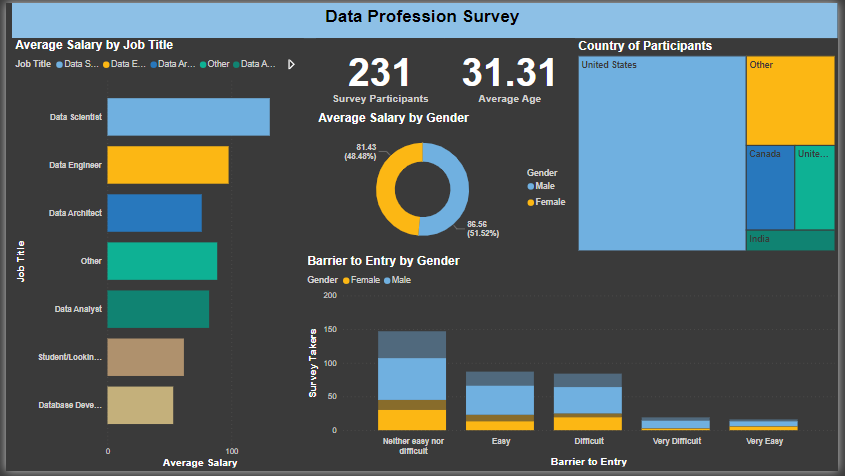

The page's visual inventory and layout, read from the dashboard file:
{"tool":"powerbi","page":{"name":"Page 1","canvas":[1280,720],"ordinal":0},"visuals":[{"type":"textbox","box":[9.7,0,1270.3,54.5],"z":0},{"type":"card","fields":{"Values":["CountNonNull(Data Professional Survey.Unique ID)"]},"box":[476.9,53.8,198.5,112.3],"z":1000},{"type":"card","fields":{"Values":["Avg(Data Professional Survey.Q10 - Current Age)"]},"box":[675.4,53.8,200,112.3],"z":2000},{"type":"barChart","title":"Average Salary by Job Title ","fields":{"Category":["Data Professional Survey.Q1 - Which Title Best Fits your Current Role?.1"],"Y":["Avg(Data Professional Survey.Average Salary)"],"Series":["Data Professional Survey.Q1 - Which Title Best Fits your Current Role?.1"]},"box":[9.2,53.8,449.2,666.2],"z":3000},{"type":"treemap","title":"Country of Participants","fields":{"Values":["CountNonNull(Data Professional Survey.Q11 - Which Country do you live in?.1)"],"Group":["Data Professional Survey.Q11 - Which Country do you live in?.1"]},"box":[875.4,55.4,404.6,330.8],"z":4000},{"type":"donutChart","title":"Average Salary by Gender","fields":{"Category":["Data Professional Survey.Q9 - Male/Female?"],"Y":["Avg(Data Professional Survey.Average Salary)"]},"box":[475.4,166.2,400,220],"z":5000},{"type":"columnChart","title":"Barrier to Entry by Gender","fields":{"Category":["Data Professional Survey.Q7 - How difficult was it for you to break into Data?"],"Y":["CountNonNull(Data Professional Survey.Unique ID)"],"Series":["Data Professional Survey.Q9 - Male/Female?"]},"box":[458.5,386.2,821.5,332.3],"z":5001}]}

Visuals, with their boxes in screenshot pixels (x1, y1, x2, y2), scaled from the page's 1280x720 canvas onto the 845x476 screenshot:
textbox: 6 0 844 36
card - CountNonNull(Data Professional Survey.Unique ID): 315 36 446 110
card - Avg(Data Professional Survey.Q10 - Current Age): 446 36 578 110
"Average Salary by Job Title " barChart: 6 36 303 475
"Country of Participants" treemap: 578 37 844 255
"Average Salary by Gender" donutChart: 314 110 578 255
"Barrier to Entry by Gender" columnChart: 303 255 844 475
